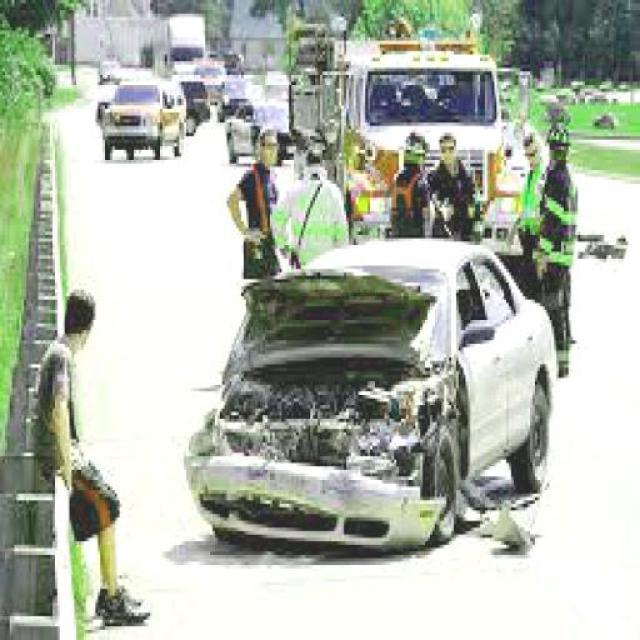car damage: (184, 268, 452, 534)
